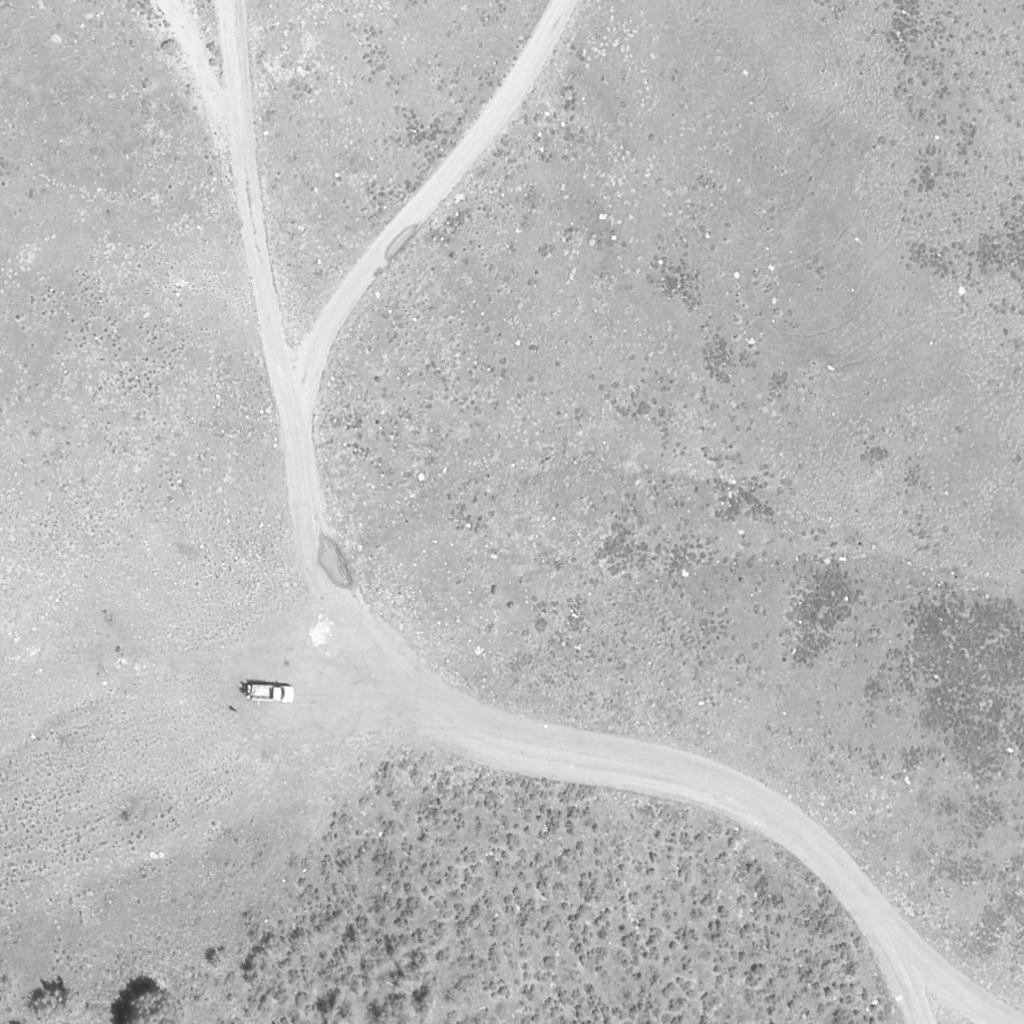vehicle: (252, 685, 296, 703)
